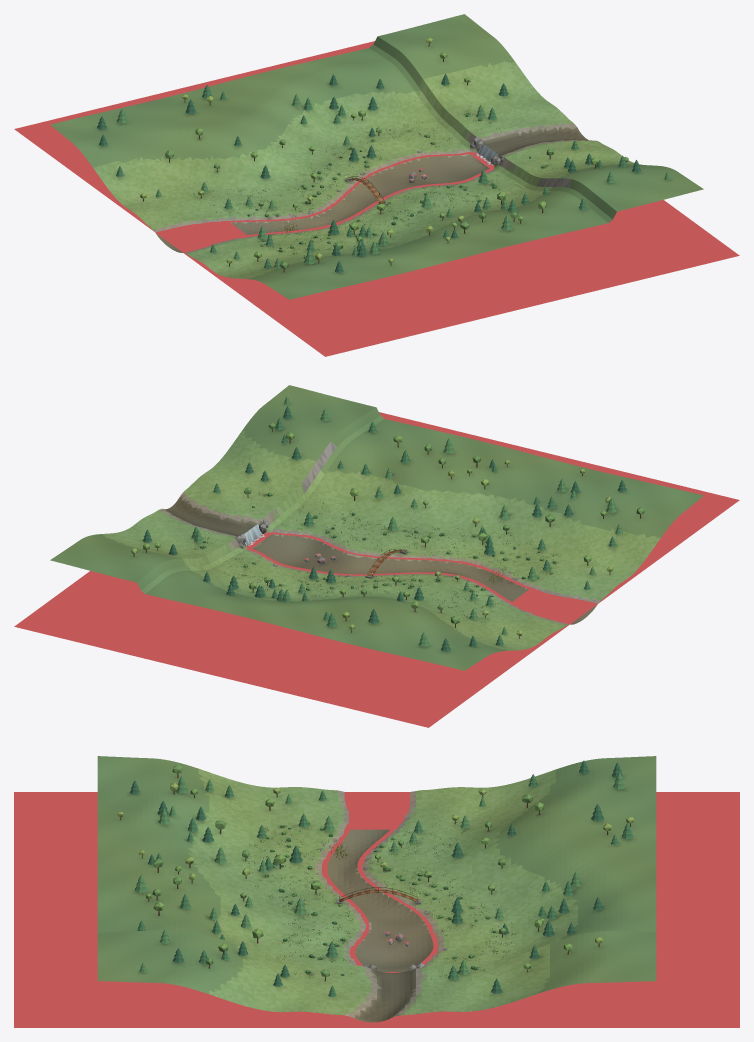
Rendered from river_01.glb.
3 views of the same model, one above another, from view 1: azimuth 30°, elevation 25°; view 2: azimuth 150°, elevation 25°; view 3: azimuth 270°, elevation 25° (orthographic). The views are drawn at different scales.
Parts seen in each view (by area): view 1: deco_terrain.001, bank_right_col, deco_trees_sway.001, bank_left_col, downstream_col, deco_grass_sway.001, deco_bushes.001; view 2: deco_terrain.001, bank_left_col, deco_trees_sway.001, bank_right_col, downstream_col, deco_grass_sway.001, deco_bushes.001; view 3: deco_terrain.001, bank_left_col, bank_right_col, deco_trees_sway.001, downstream_col, deco_grass_sway.001, deco_bushes.001.
Boxes of the visible parts, bbox=[...] form: deco_terrain.001: bbox=[50, 14, 703, 299]; bank_right_col: bbox=[185, 168, 739, 356]; deco_trees_sway.001: bbox=[97, 37, 670, 272]; bank_left_col: bbox=[14, 41, 474, 233]; downstream_col: bbox=[98, 188, 270, 295]; deco_grass_sway.001: bbox=[193, 110, 556, 254]; deco_bushes.001: bbox=[247, 113, 545, 251]; deco_terrain.001: bbox=[50, 385, 703, 670]; bank_left_col: bbox=[14, 549, 570, 727]; deco_trees_sway.001: bbox=[131, 396, 644, 651]; bank_right_col: bbox=[272, 412, 739, 604]; downstream_col: bbox=[483, 559, 655, 666]; deco_grass_sway.001: bbox=[185, 493, 557, 622]; deco_bushes.001: bbox=[200, 492, 555, 596]; deco_terrain.001: bbox=[97, 756, 656, 1022]; bank_left_col: bbox=[357, 792, 739, 1027]; bank_right_col: bbox=[14, 792, 369, 1027]; deco_trees_sway.001: bbox=[117, 760, 634, 996]; downstream_col: bbox=[345, 792, 410, 829]; deco_grass_sway.001: bbox=[242, 822, 515, 979]; deco_bushes.001: bbox=[264, 821, 495, 975].
Size of the model in its own units: 200 by 29.08 by 260.
